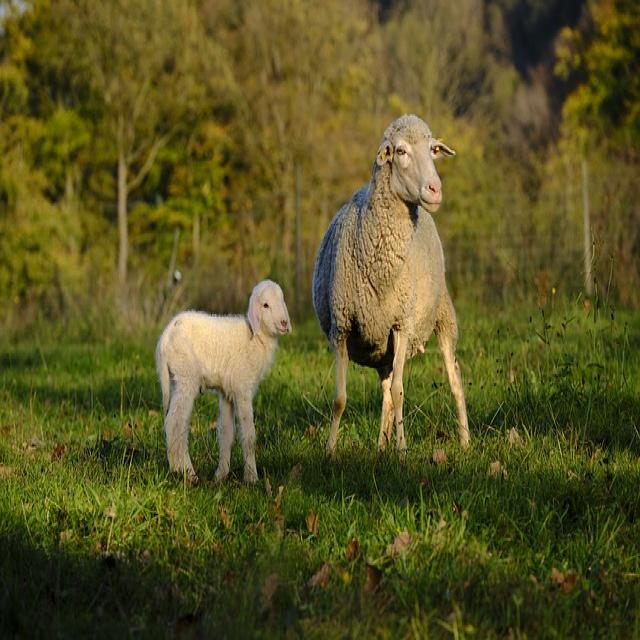sheep: (311, 111, 470, 461), (154, 278, 292, 485)
